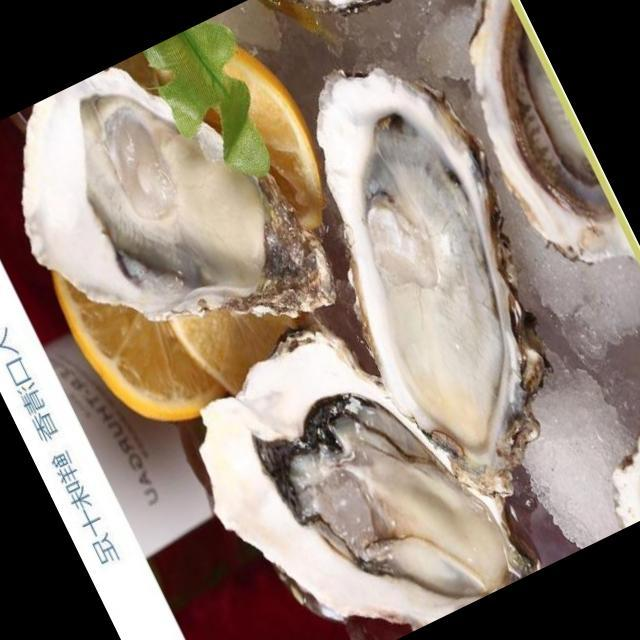Oyster- Indeterminate: (597, 415, 640, 533)
Oyster-Open: (152, 320, 557, 640), (303, 48, 561, 519), (0, 65, 343, 328), (453, 0, 640, 295)
